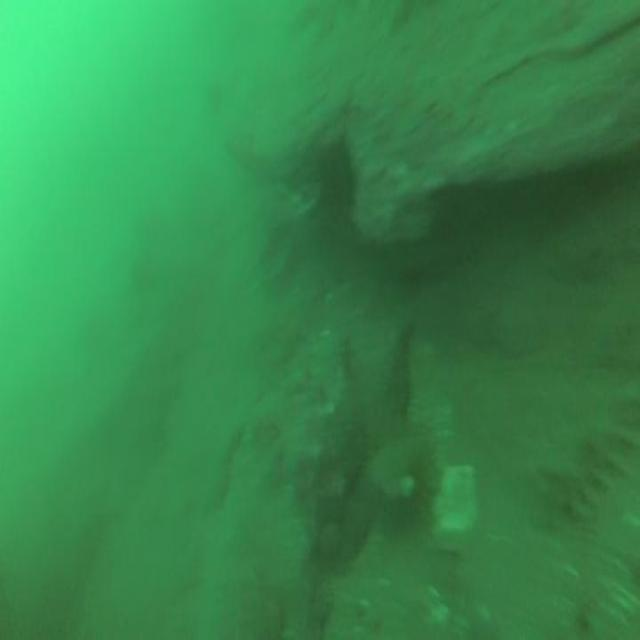echinus: (319, 131, 357, 231)
holothurian: (528, 379, 640, 531)
